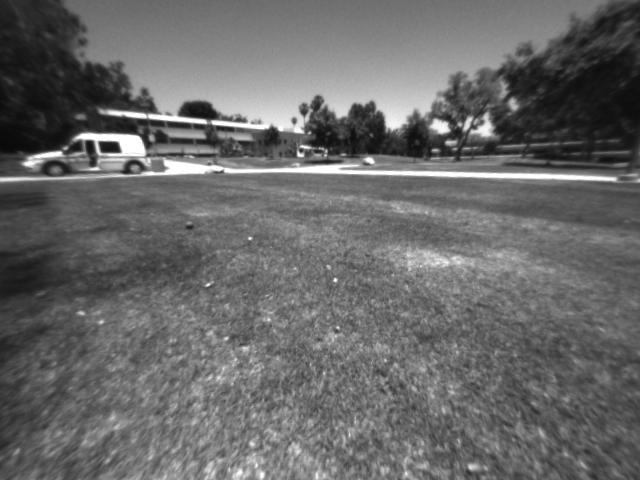dogtoy: (179, 213, 204, 234)
